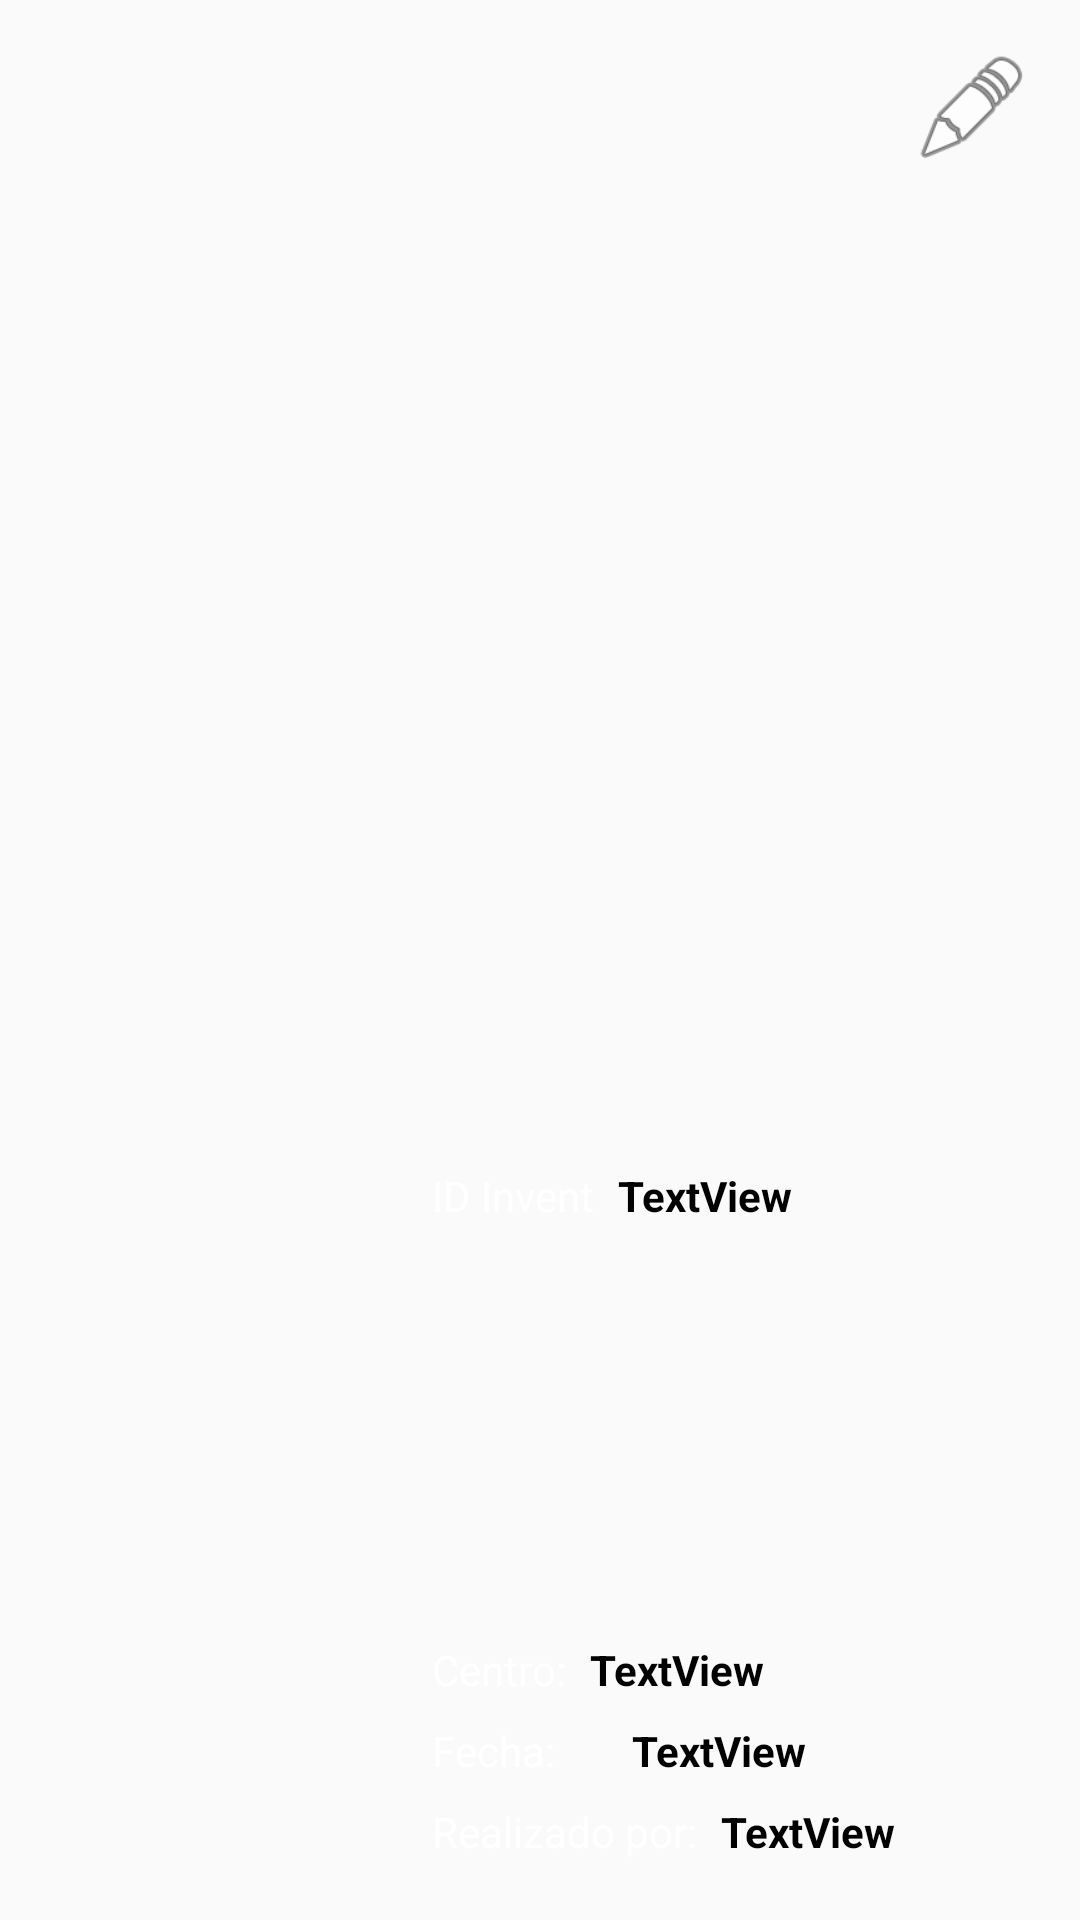

Named icons in this screenshot (1080 × 1920) and their bounding boxes, (x1, y1, x2, y2):
edit: (921, 56, 1022, 158)
